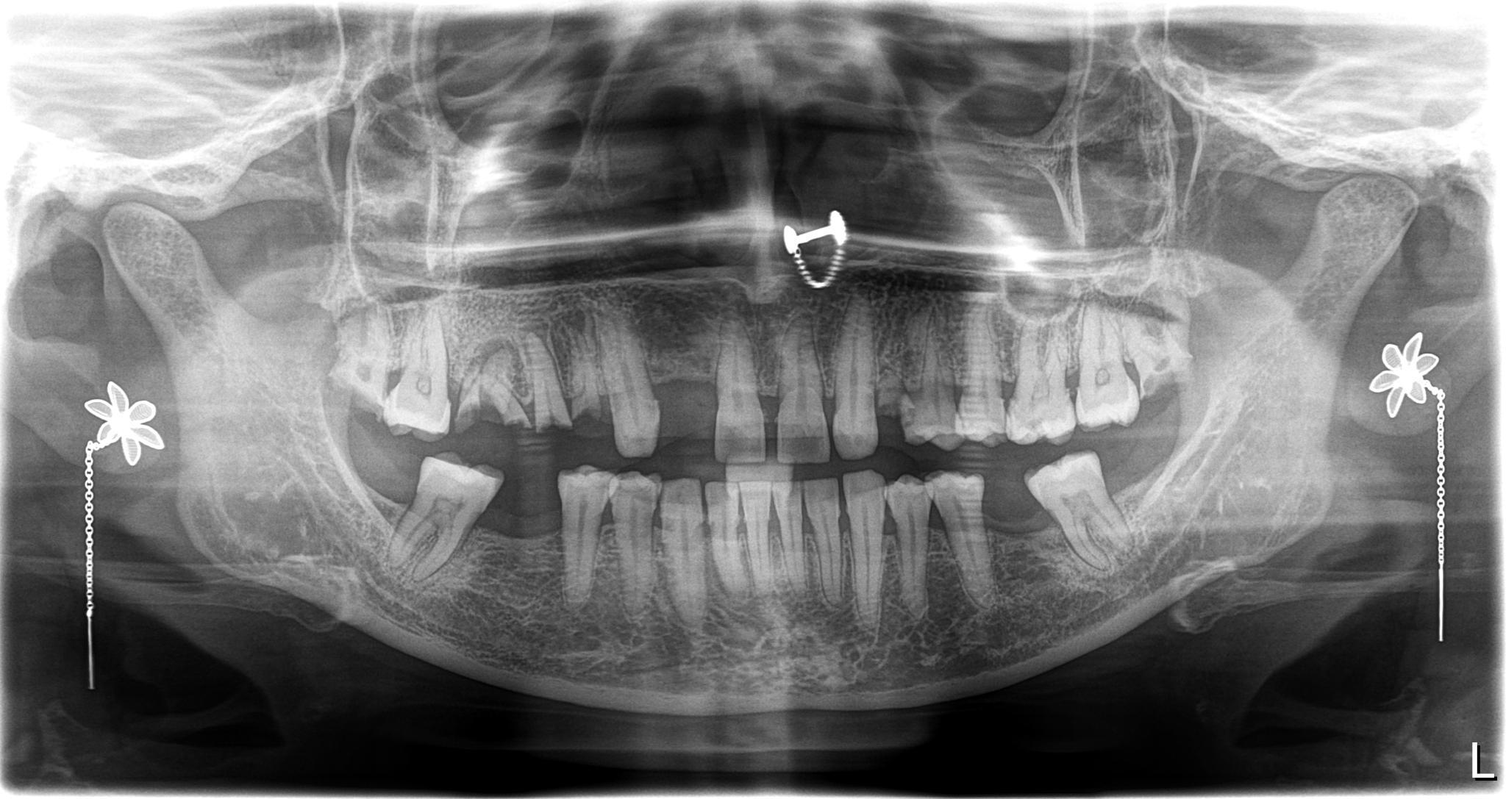Missing Tooth: (980, 483, 1061, 607), (485, 480, 571, 594), (1092, 445, 1218, 515), (347, 434, 415, 554)
Tooth Fracture: (333, 305, 389, 438), (658, 347, 720, 460), (1121, 314, 1198, 400), (563, 349, 611, 446), (469, 362, 517, 453), (871, 342, 913, 446), (529, 351, 568, 446)
